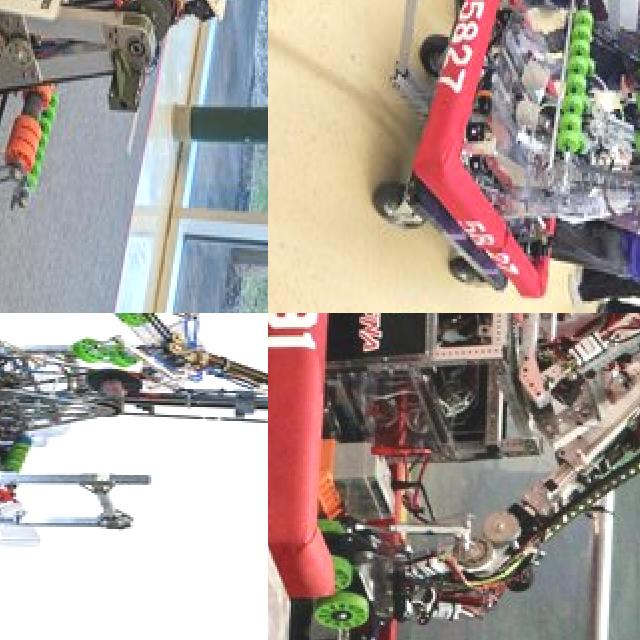FRC-Robots: (268, 313, 640, 640), (0, 313, 268, 595), (0, 0, 236, 313), (383, 0, 640, 255)
